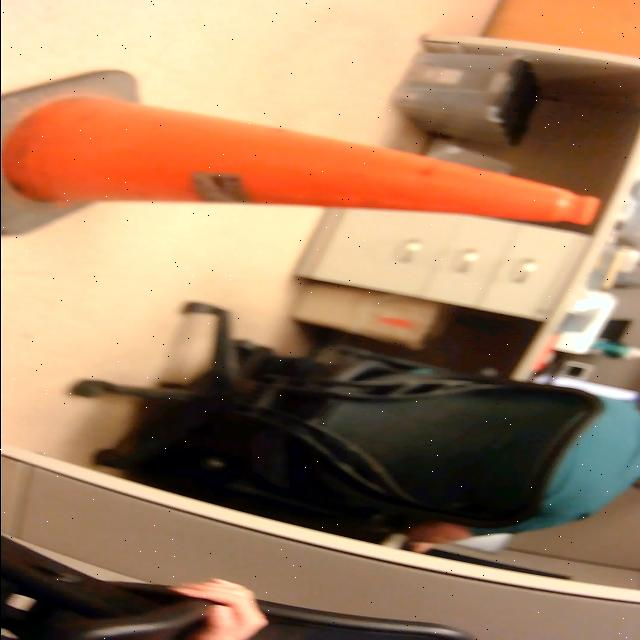traffic cone: (1, 68, 609, 244)
